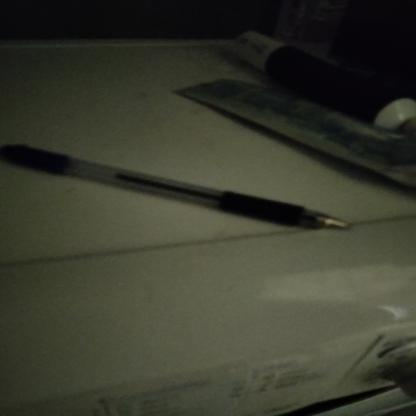Pen: (0, 139, 389, 246)
